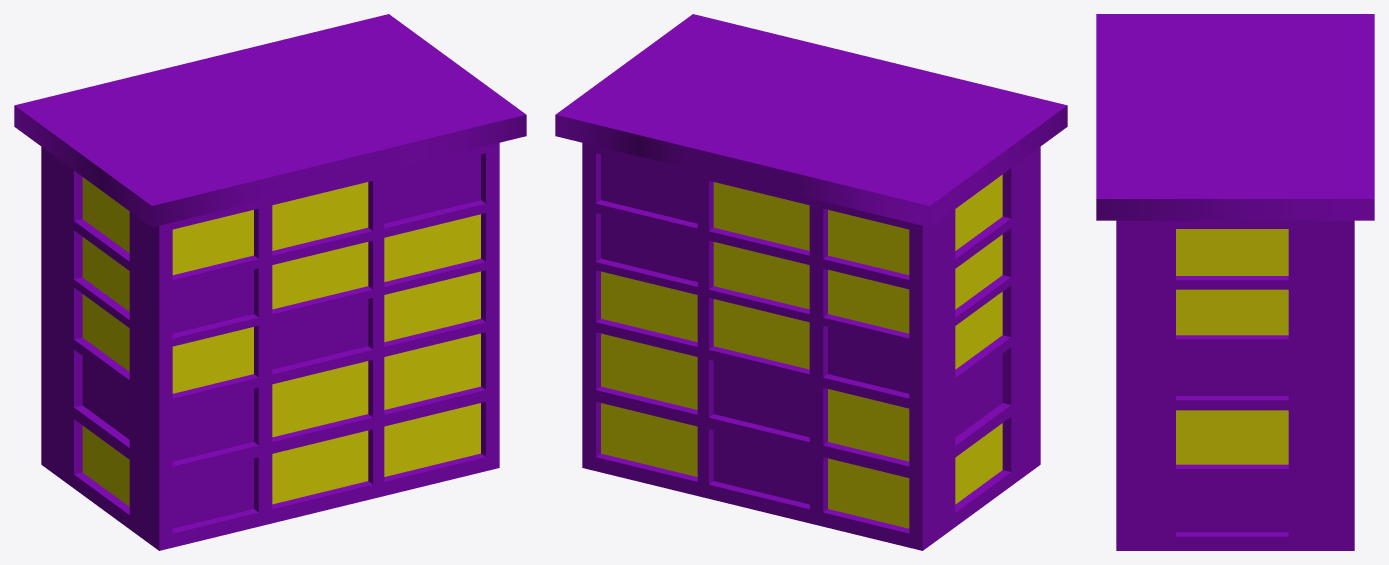
The model's file is Building_Medium_Side_002.fbx.
3 views of the same model, side by side, from view 1: azimuth 30°, elevation 25°; view 2: azimuth 150°, elevation 25°; view 3: azimuth 270°, elevation 25° (orthographic).
Parts seen in each view (by area): view 1: Building_Medium_Side_002; view 2: Building_Medium_Side_002; view 3: Building_Medium_Side_002.
Part boxes in pixels (x1=…): Building_Medium_Side_002: x1=14, y1=14, x2=526, y2=550; Building_Medium_Side_002: x1=555, y1=14, x2=1067, y2=550; Building_Medium_Side_002: x1=1096, y1=14, x2=1374, y2=550.
Bounding box in the file's own units: 4400 × 4000 × 2800.
